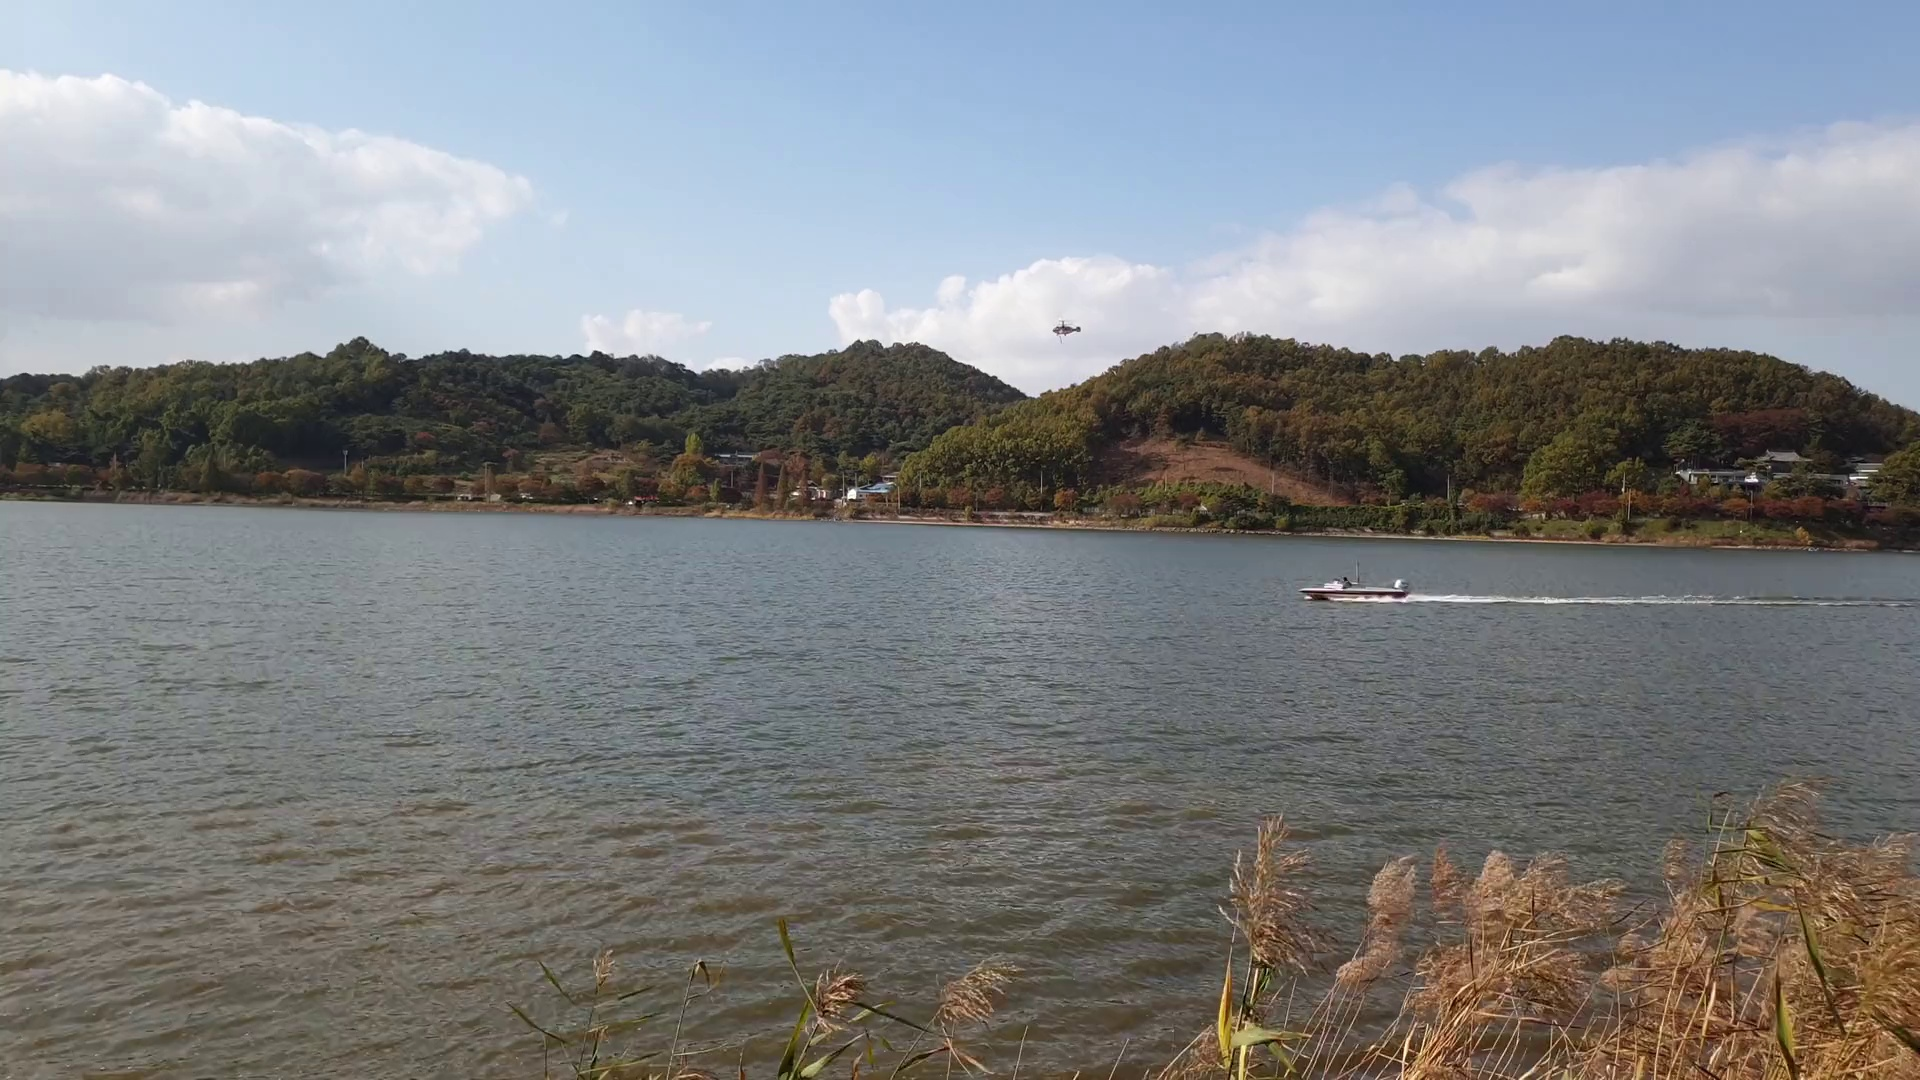heli: (1052, 318, 1081, 336)
